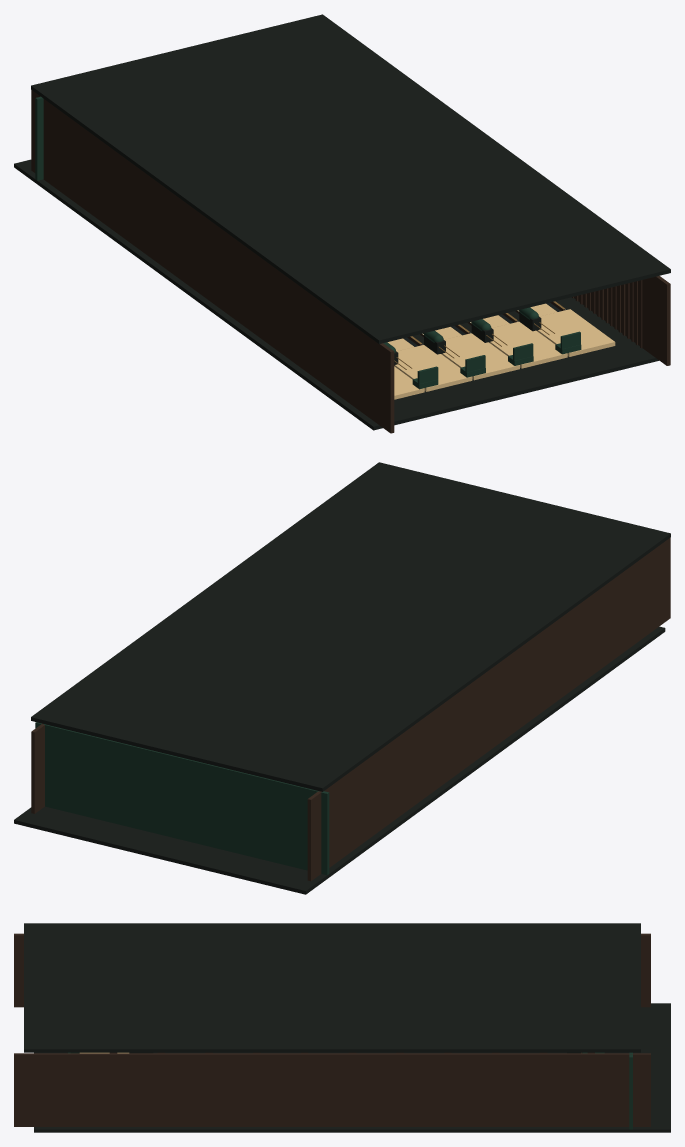
The model's file is royal-alley.glb.
The picture shows the model from 3 angles, top to bottom: view 1: azimuth 30°, elevation 25°; view 2: azimuth 150°, elevation 25°; view 3: azimuth 270°, elevation 25°; orthographic projection. The views are drawn at different scales.
Parts seen in each view (by area): view 1: Charcoal acoustic, Walnut joinery, Approach (×4), Deep green velvet; view 2: Charcoal acoustic, Walnut joinery, Deep green velvet; view 3: Charcoal acoustic, Walnut joinery, Deep green velvet.
Boxes of the visible parts, x1,y1,x2,y2 form: Charcoal acoustic: (14,14,670,430); Walnut joinery: (31,90,670,433); Approach (×4): (394,309,615,391); Deep green velvet: (35,96,581,389); Charcoal acoustic: (14,462,670,894); Walnut joinery: (31,537,670,881); Deep green velvet: (35,722,329,875); Charcoal acoustic: (24,923,670,1132); Walnut joinery: (14,933,650,1126); Deep green velvet: (68,1052,632,1129).
Size of the model in its own units: 15 by 4.62 by 33.
